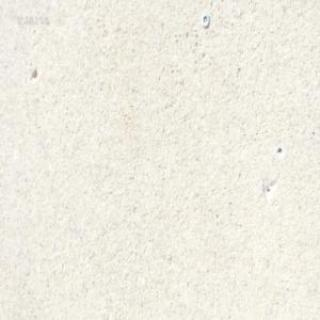Washertrack_idkeyframe: (200, 12, 208, 27)
